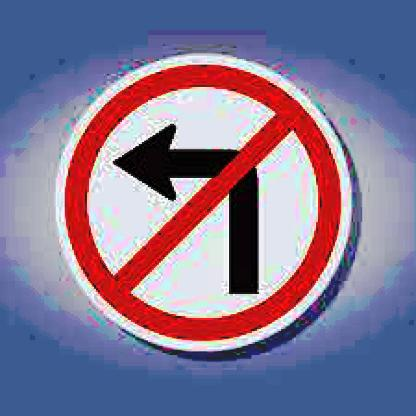No left turn: (64, 55, 341, 346)
